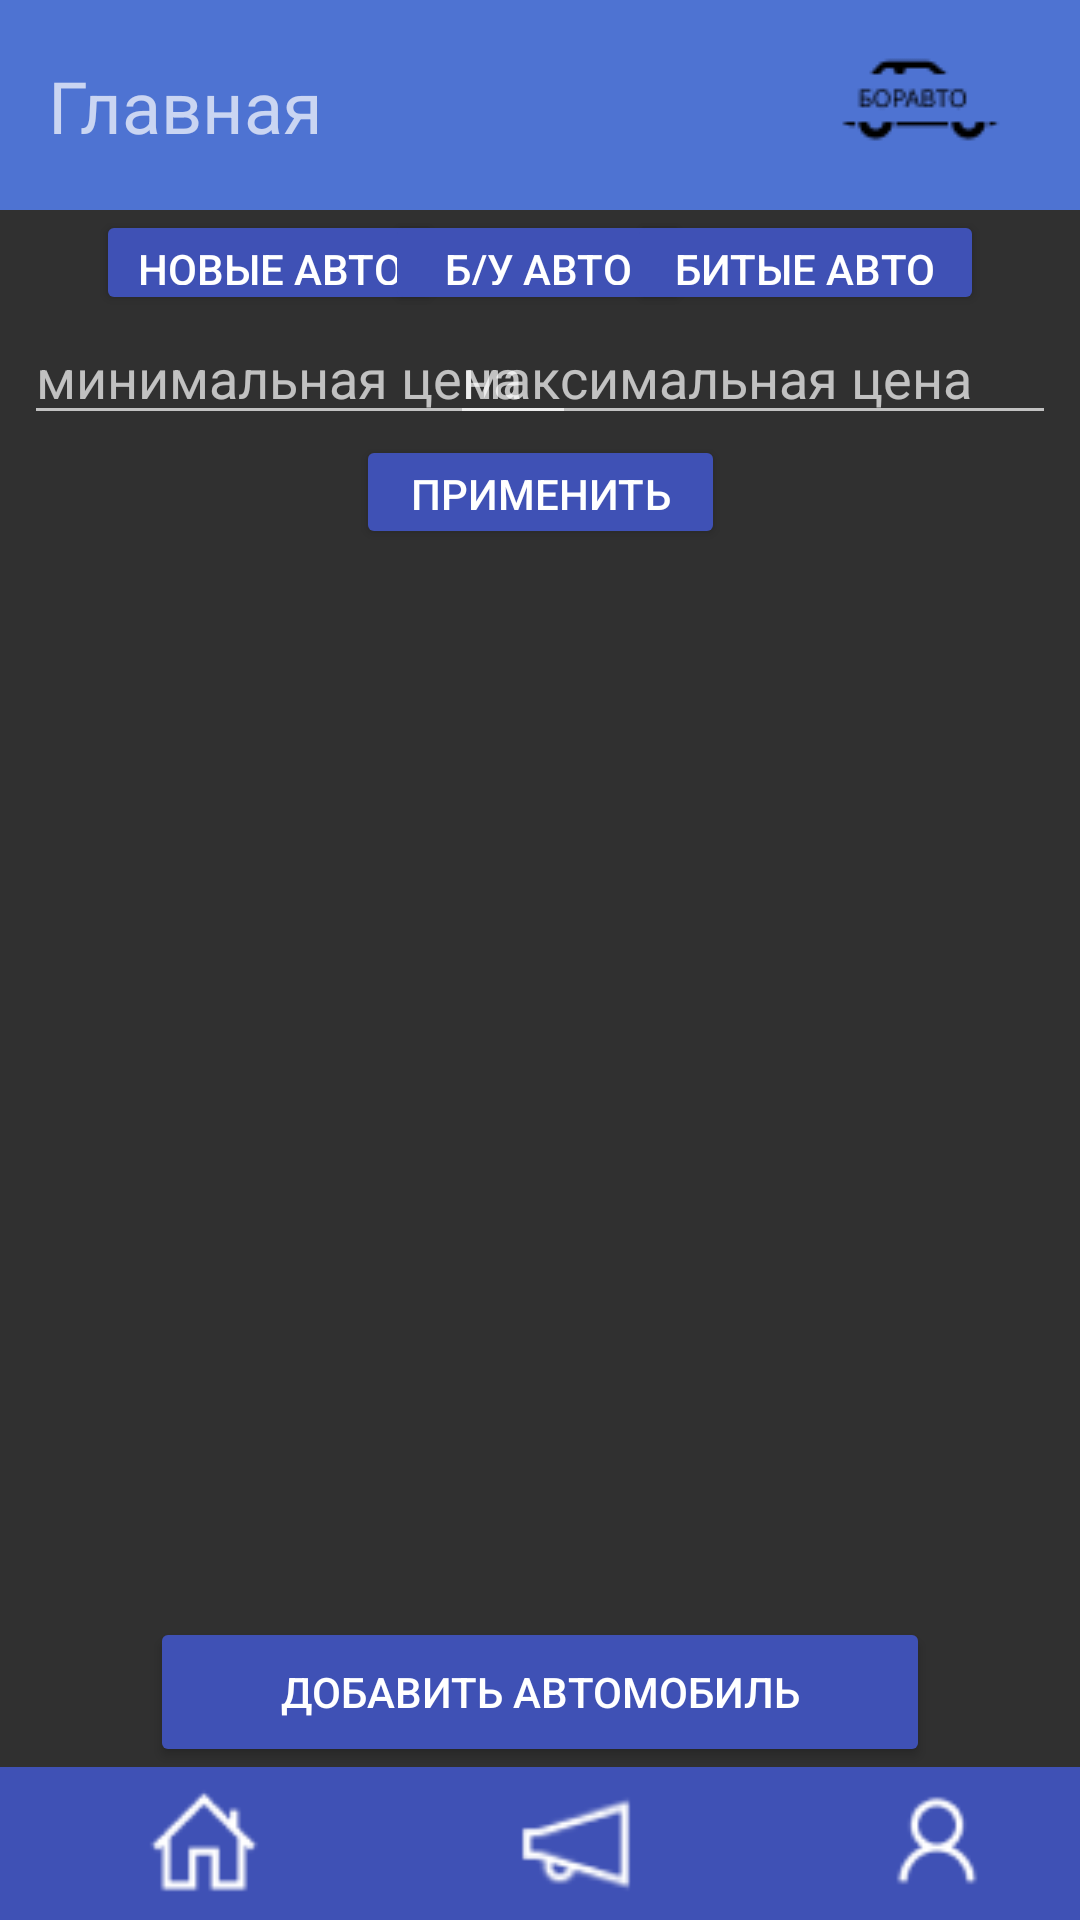

Where to tap for icons on this 1080x1920 app screen, as [x,y]:
contacts: [937,1840]
home: [204,1842]
news: [576,1844]
